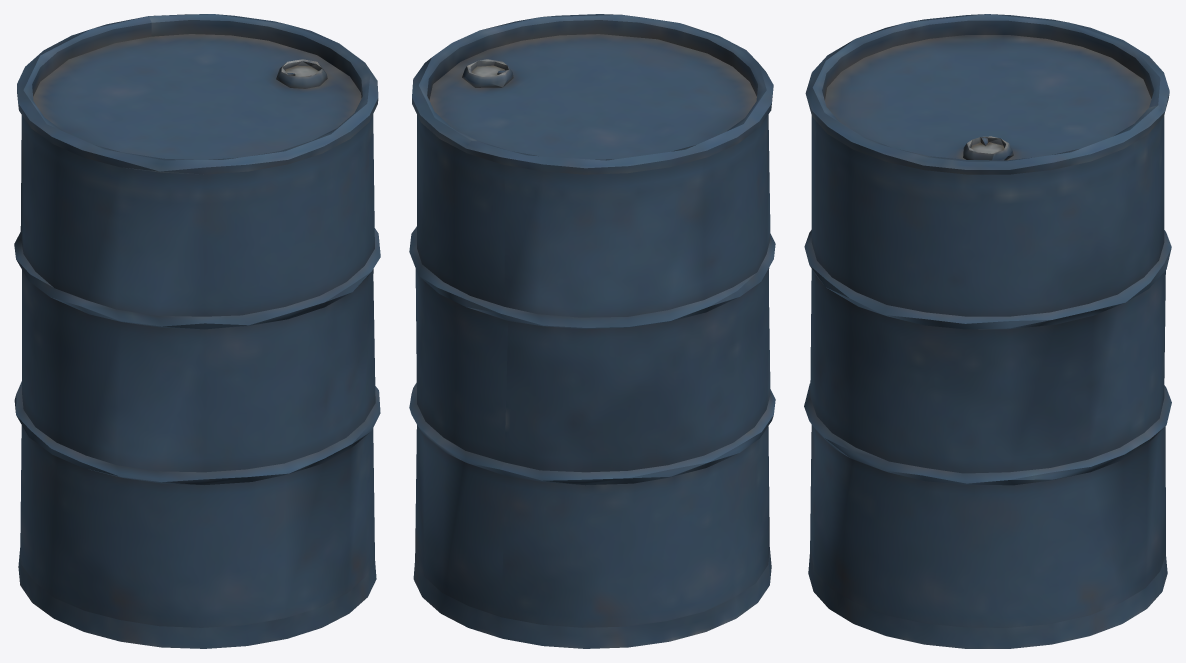
Rendered from barrel_03.fbx.
3 renders of one model, left to right at view 1: azimuth 30°, elevation 25°; view 2: azimuth 150°, elevation 25°; view 3: azimuth 270°, elevation 25°, orthographic.
Visible parts, largest first — view 1: barrel_03; view 2: barrel_03; view 3: barrel_03.
Part boxes in pixels (left/top/right/bottom): barrel_03: left=14, top=14, right=380, bottom=648; barrel_03: left=409, top=14, right=775, bottom=648; barrel_03: left=804, top=14, right=1171, bottom=648.
Bounding box in the file's own units: 0.6338 × 0.9307 × 0.6386.
